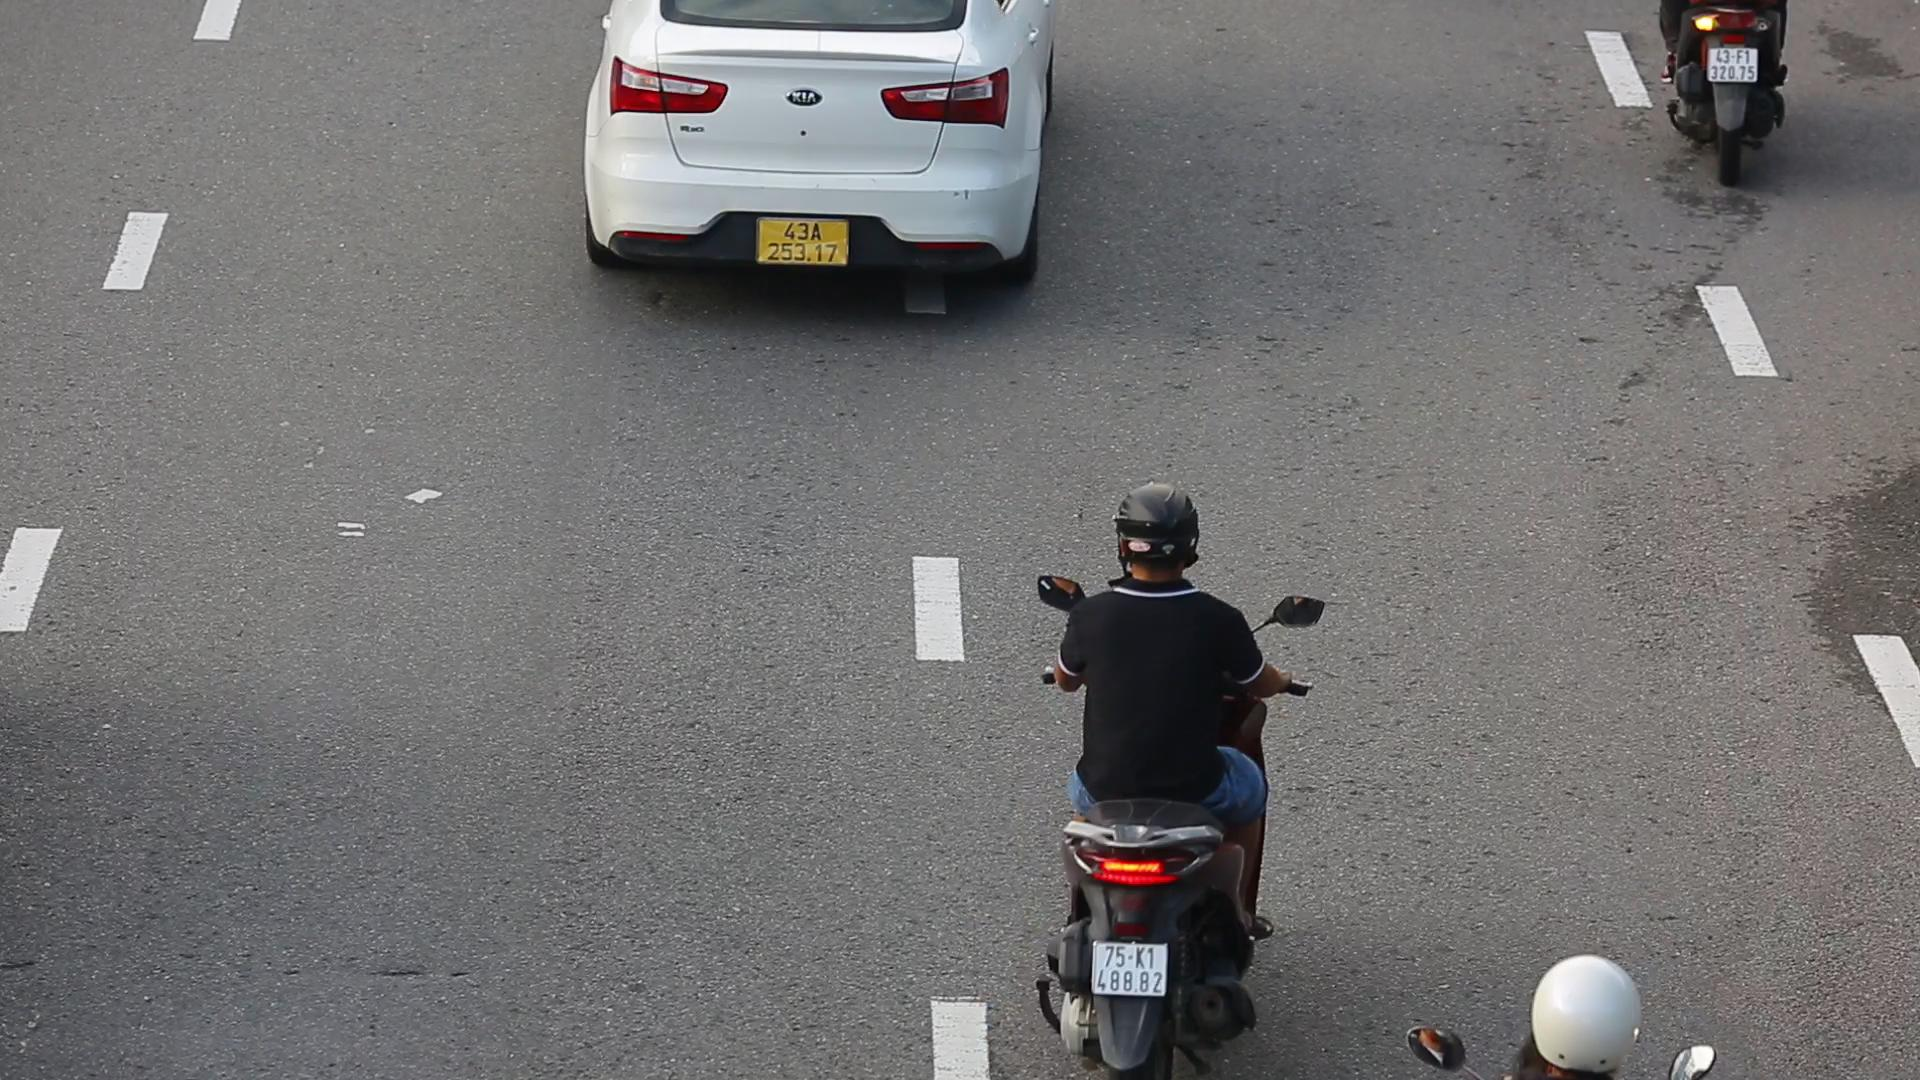motobike: (1005, 467, 1341, 1080)
